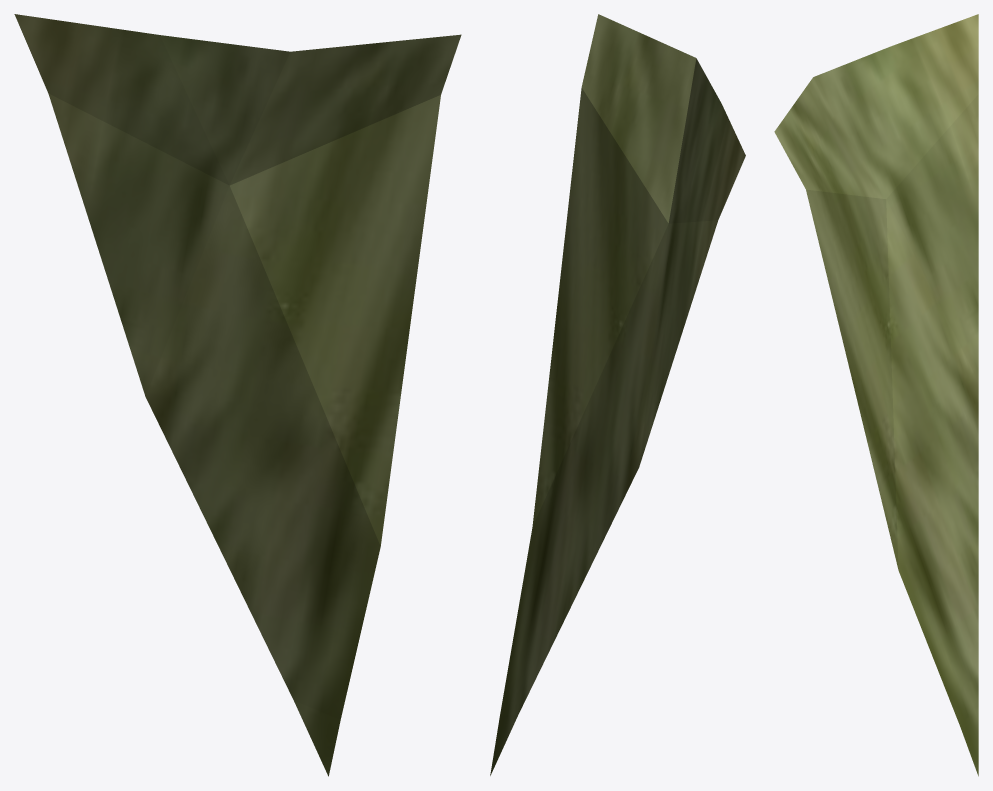
3 views of the same model, side by side, from view 1: azimuth 30°, elevation 25°; view 2: azimuth 150°, elevation 25°; view 3: azimuth 270°, elevation 25° (orthographic). The views are drawn at different scales.
Size of the model in its own units: 0.8459 by 2.16 by 0.6198.
1 material, 1 textured.
